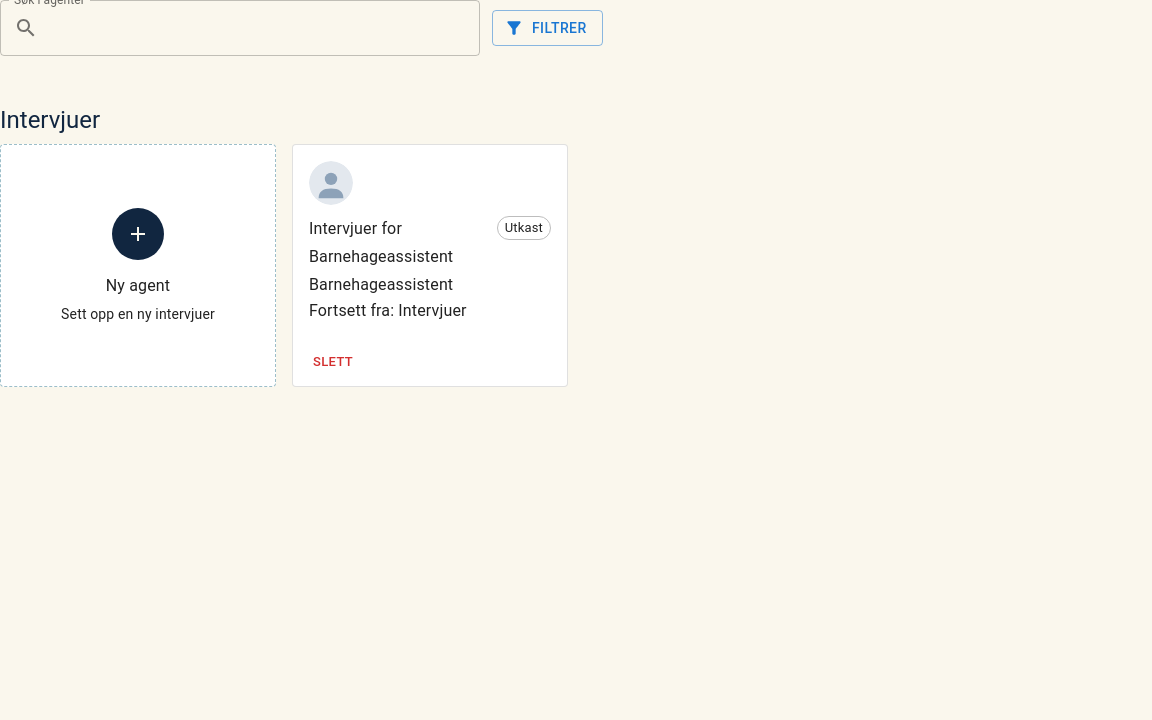
Test: AgentList › can delete the local draft from the utkast card
The image size is (1152, 720).
Click the button with aria-label "Slett utkastet Intervjuer for Barnehageassistent".
click(333, 363)  # box [301,347,365,378]
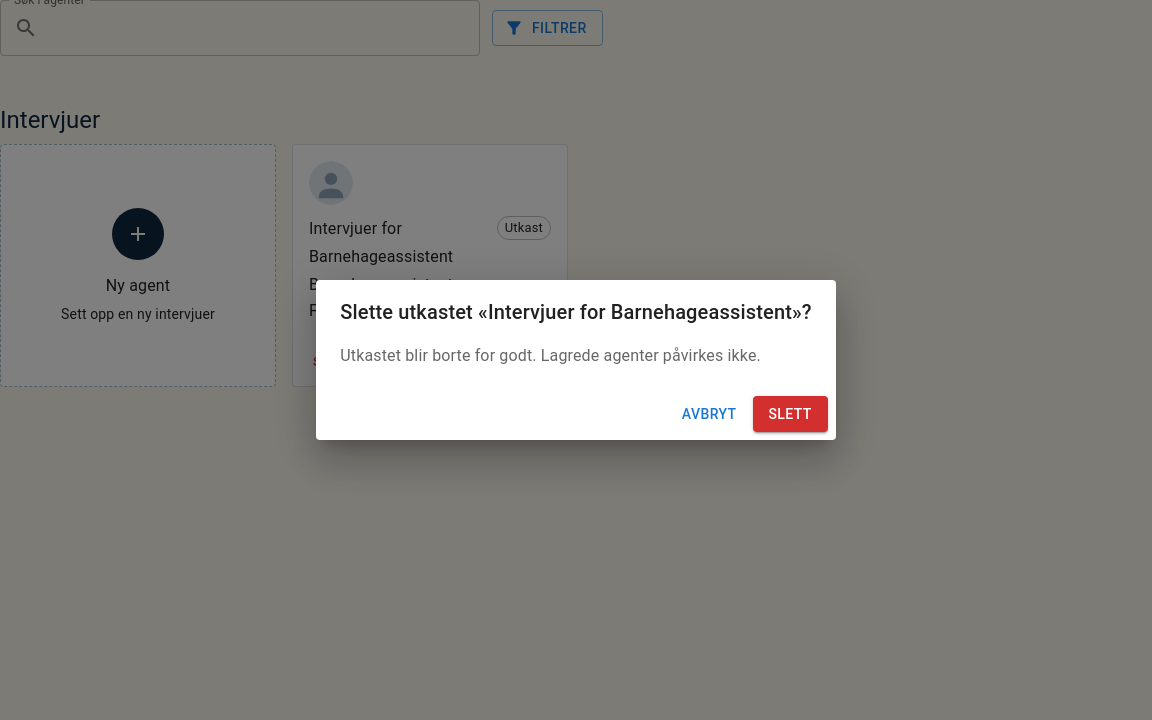
Expected: the dialog "Slette utkastet «Intervjuer for Barnehageassistent»?" is shown, [316,280,836,440]
Click the button "Slett".
click(790, 414)  # box [752,396,828,432]
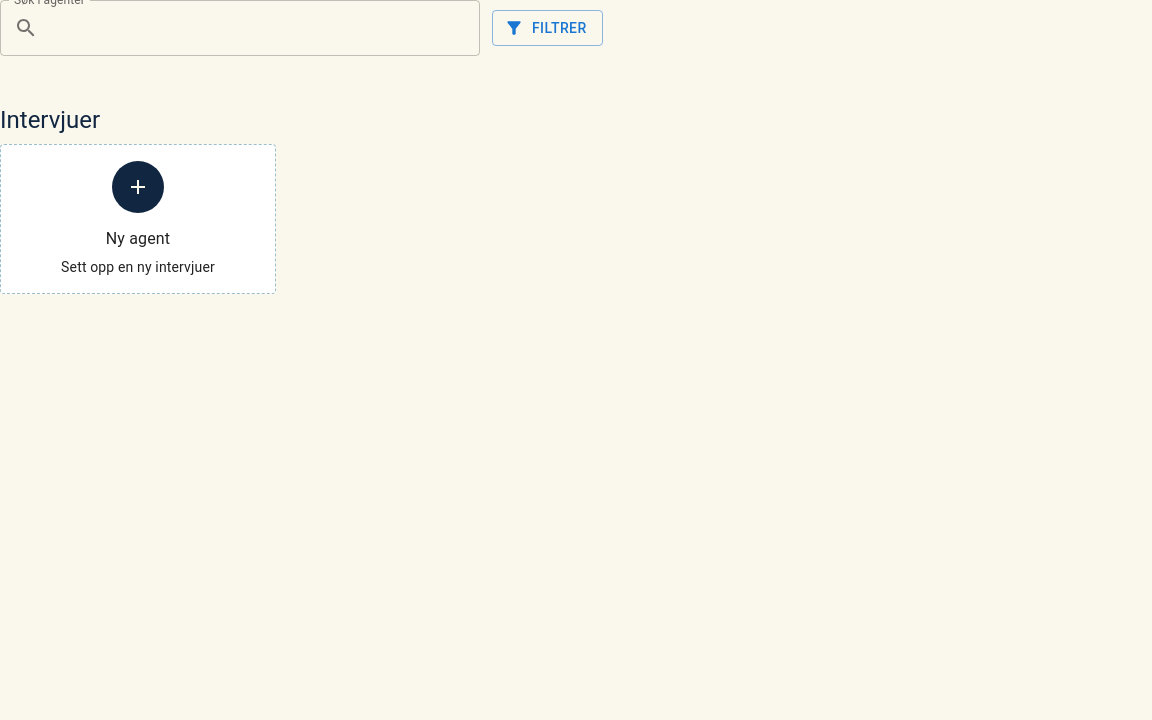
Expected: the link "Intervjuer for Barnehageassistent" is gone
